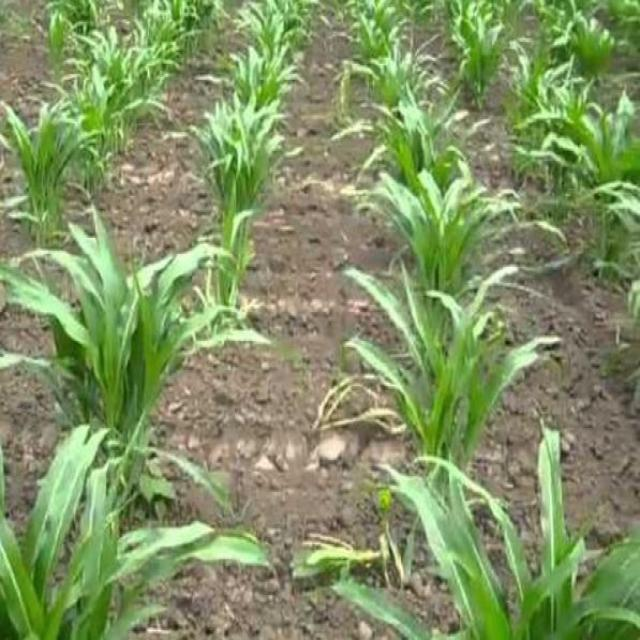row: (95, 0, 437, 640), (399, 0, 640, 640), (2, 1, 257, 600), (0, 0, 148, 212)
